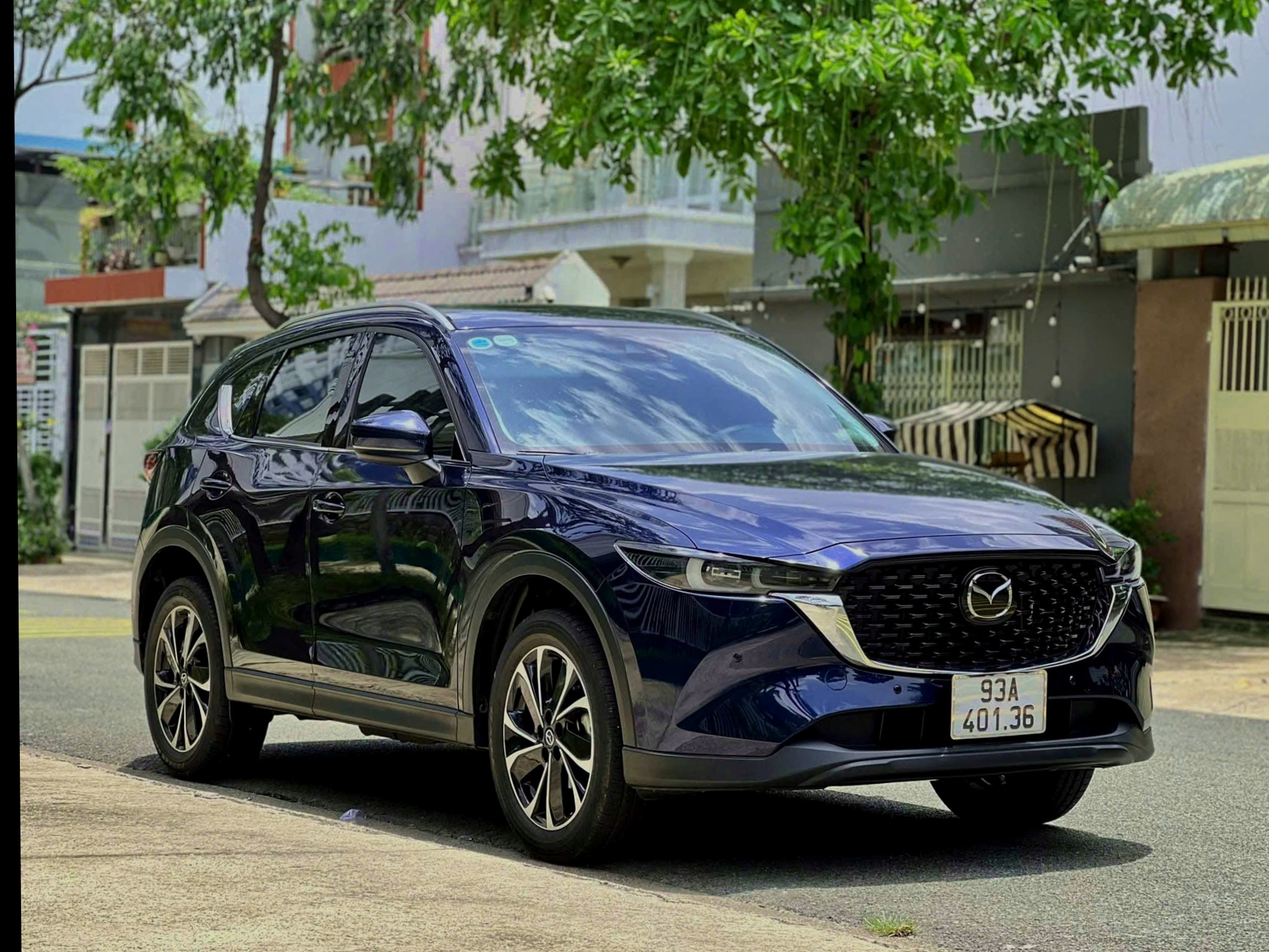Bien-so: (925, 713, 1030, 788)
